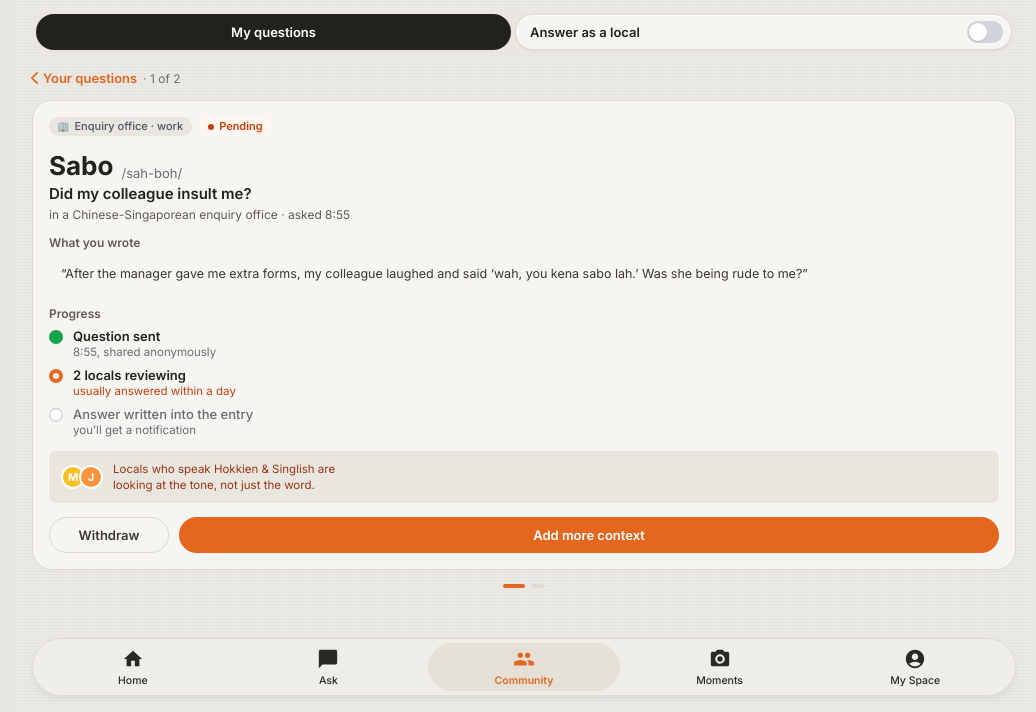
Test: the back row and "My questions" return to the list
Click the link "Your questions · 1 of 2": (106, 77) [32,68,181,86]
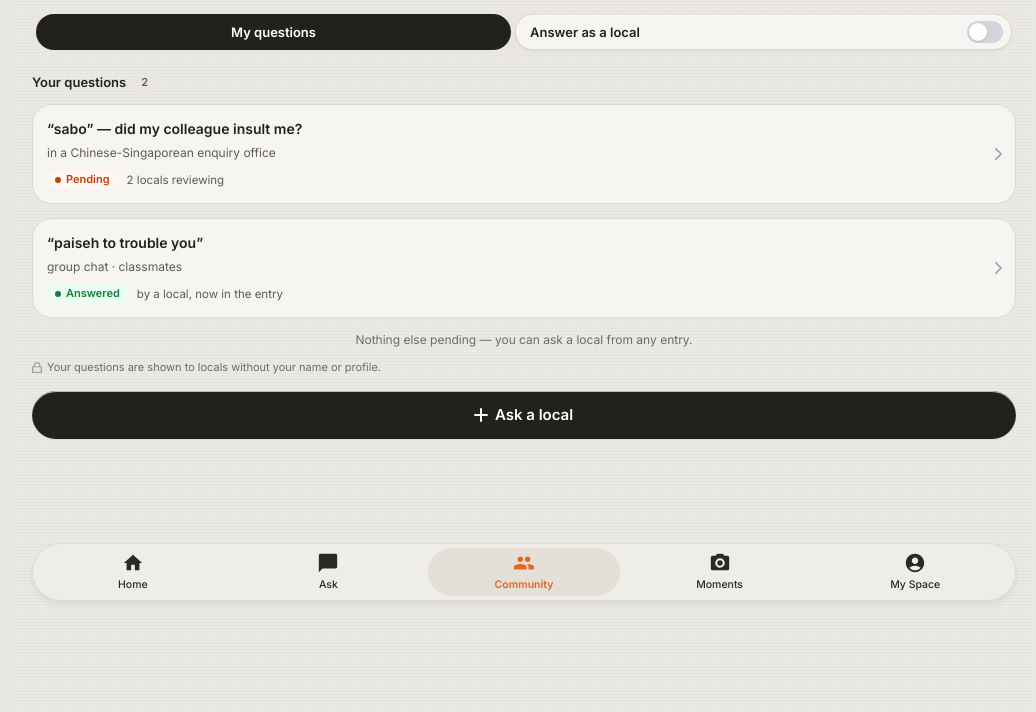
Click the link with aria-label "open question “sabo”": (175, 128) [32,104,1016,204]
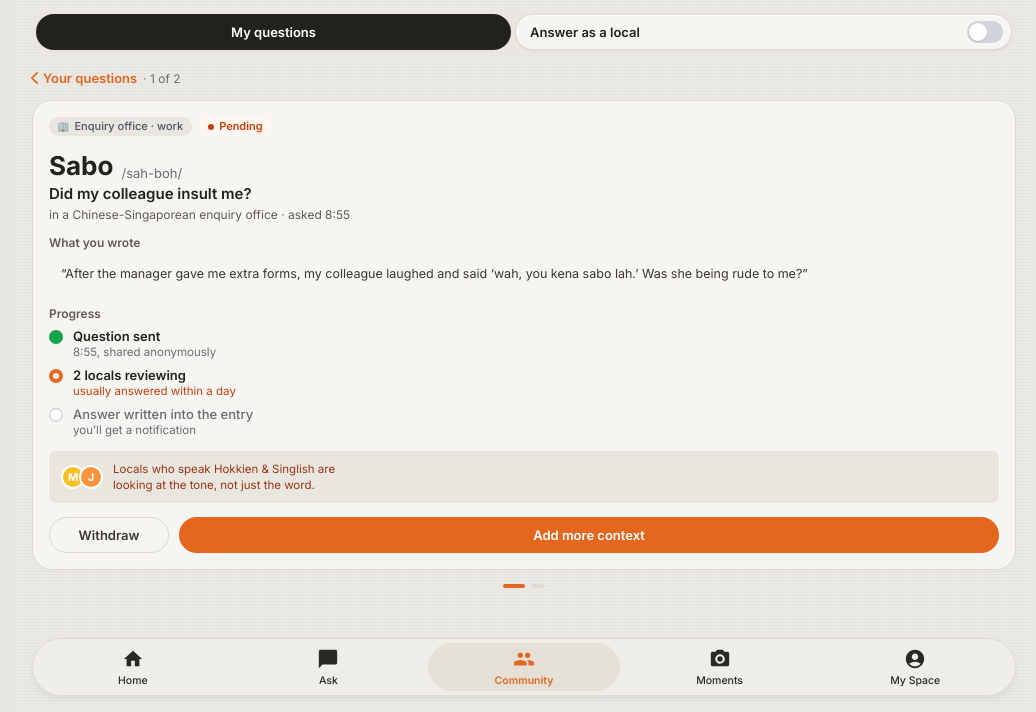
Click the link "My questions": (274, 32) [36,14,511,50]
(page scrolled)
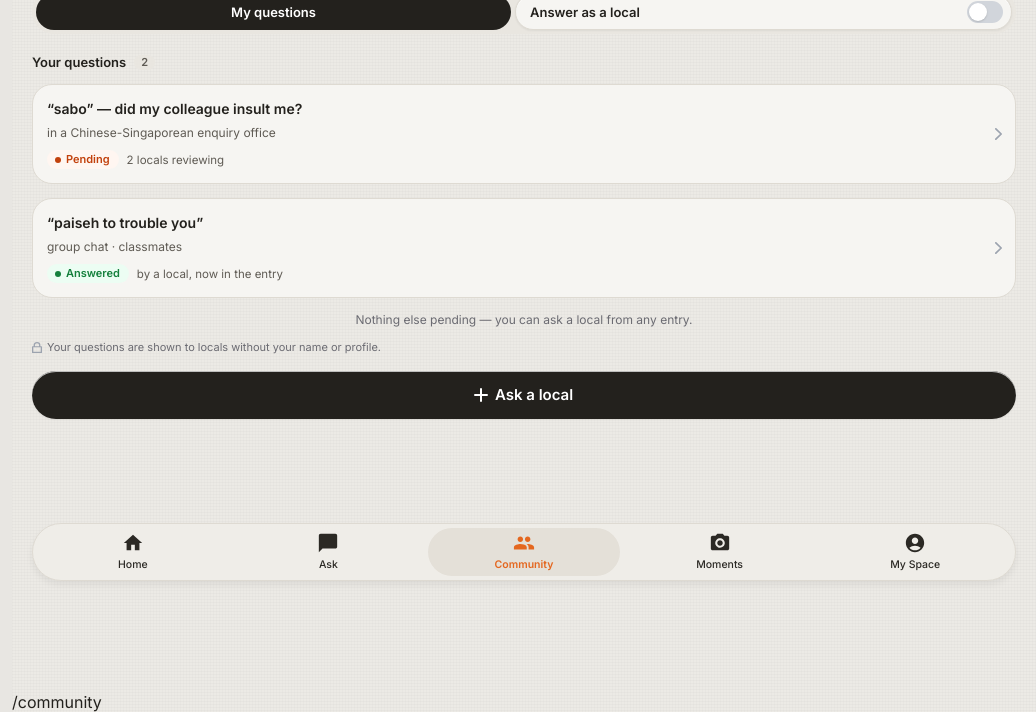
Expected: the text with test id "location" reads "/community", [12,692,102,711]
